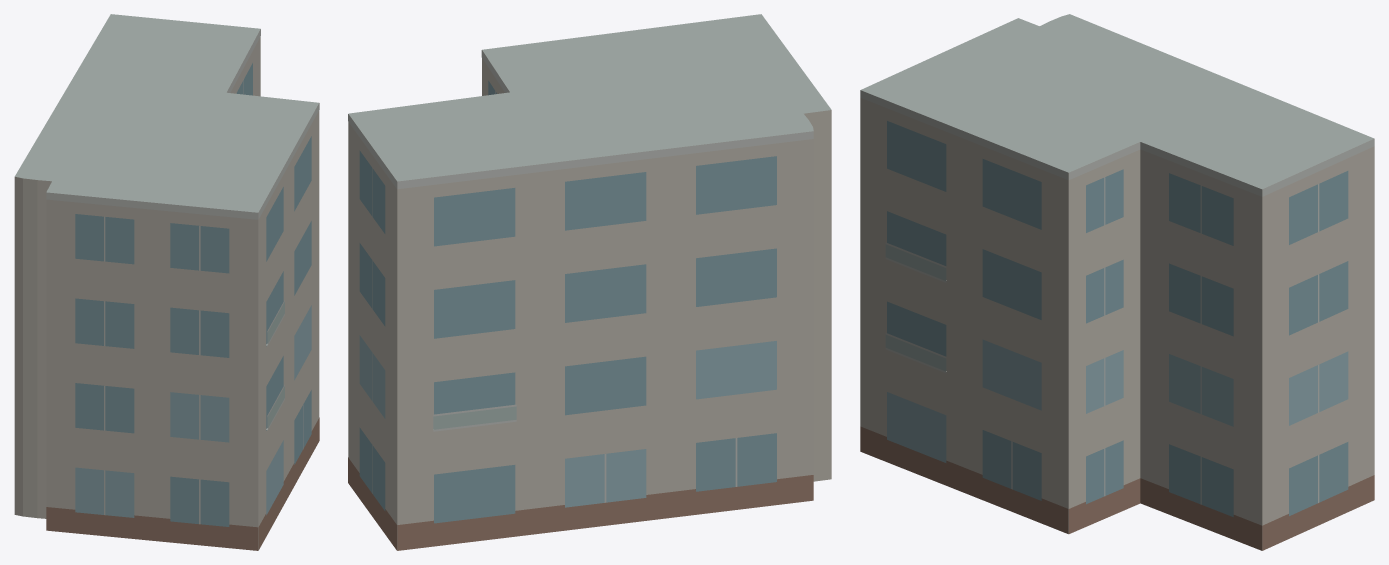
The model's file is survey-upis-32894113.glb.
3 renders of one model, left to right at view 1: azimuth 30°, elevation 25°; view 2: azimuth 150°, elevation 25°; view 3: azimuth 270°, elevation 25°, orthographic. The views are drawn at different scales.
Visible parts, largest first — view 1: survey-upis-32894113.tmp; view 2: survey-upis-32894113.tmp; view 3: survey-upis-32894113.tmp.
Part boxes in pixels (bbox=[...]): survey-upis-32894113.tmp: bbox=[14, 14, 319, 550]; survey-upis-32894113.tmp: bbox=[348, 14, 831, 550]; survey-upis-32894113.tmp: bbox=[860, 14, 1374, 550].
Bounding box in the file's own units: 12.13 × 11.65 × 15.03.
